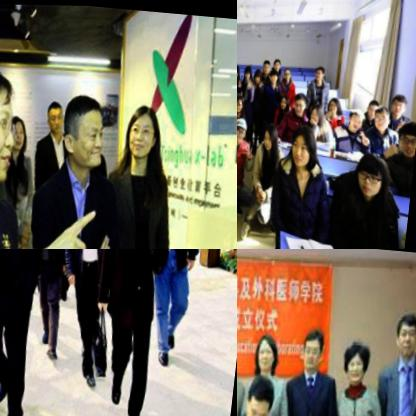head: (58, 87, 114, 166), (0, 63, 24, 187), (125, 101, 166, 161), (242, 367, 282, 416), (361, 143, 394, 195), (298, 321, 329, 372), (341, 333, 373, 380), (294, 119, 325, 165), (391, 303, 416, 350), (5, 110, 31, 154), (255, 327, 281, 371), (45, 97, 72, 136), (375, 97, 399, 131), (393, 81, 415, 113), (400, 107, 416, 150), (351, 98, 372, 128), (268, 114, 285, 145), (237, 109, 254, 139), (369, 89, 386, 117), (312, 95, 330, 121), (297, 85, 313, 113), (330, 88, 346, 108), (238, 88, 251, 110), (317, 56, 331, 76), (271, 61, 284, 82), (256, 61, 268, 82), (246, 57, 259, 76), (274, 51, 286, 69), (264, 54, 275, 71), (287, 59, 297, 77), (283, 87, 293, 104), (237, 57, 244, 76), (237, 83, 240, 103)
